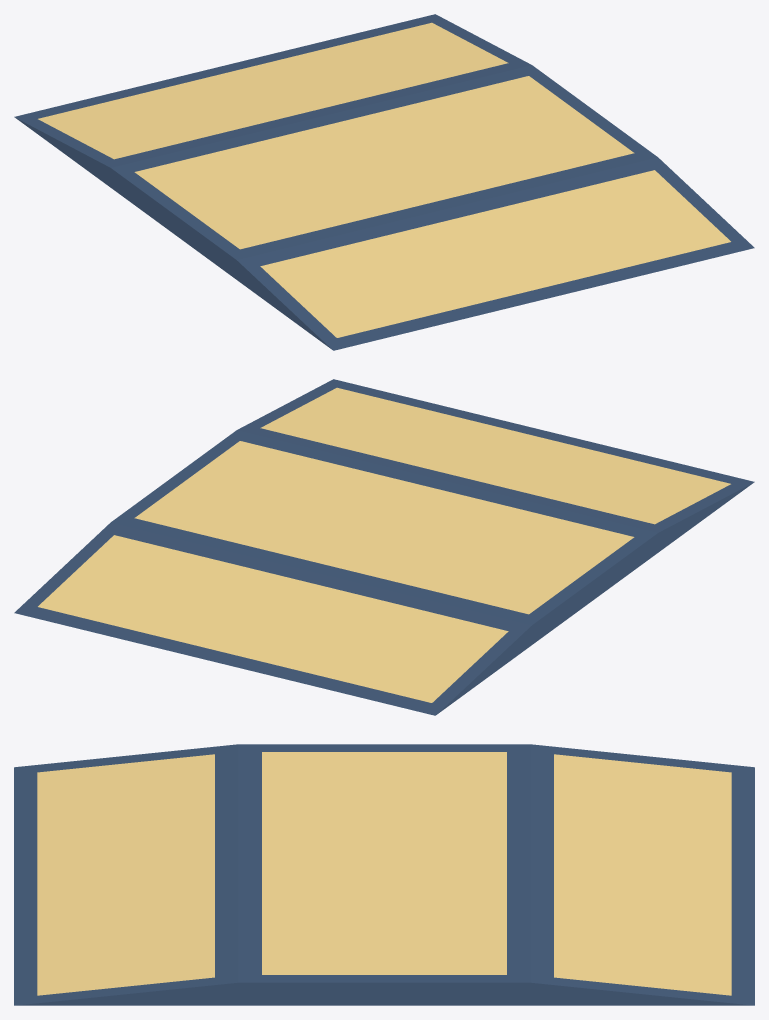
The model's file is runnner.glb.
3 views of the same model, one above another, from view 1: azimuth 30°, elevation 25°; view 2: azimuth 150°, elevation 25°; view 3: azimuth 270°, elevation 25° (orthographic). The views are drawn at different scales.
Parts seen in each view (by area): view 1: runner; view 2: runner; view 3: runner.
Boxes of the visible parts, box(x1,y1,x2,y2) form: runner: box(14, 14, 754, 350); runner: box(14, 379, 754, 715); runner: box(14, 744, 754, 1005).
Bounding box in the file's own units: 2.28 × 0.1028 × 3.
1 material, 1 textured.
